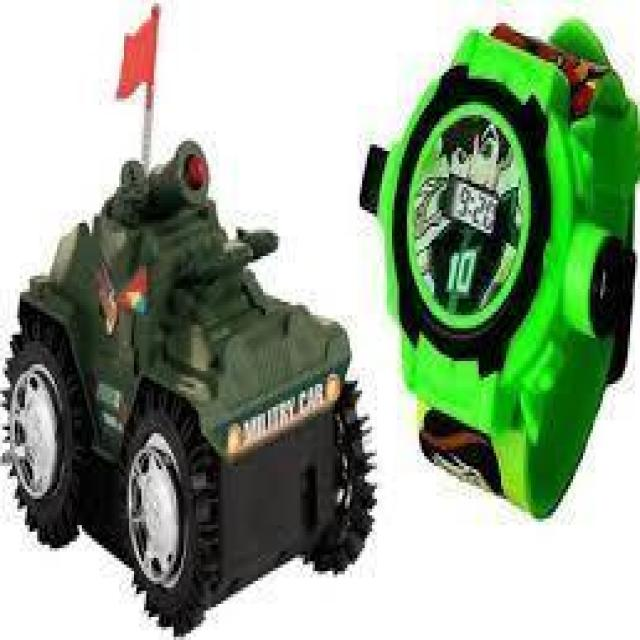Tanks: (6, 138, 368, 630)
